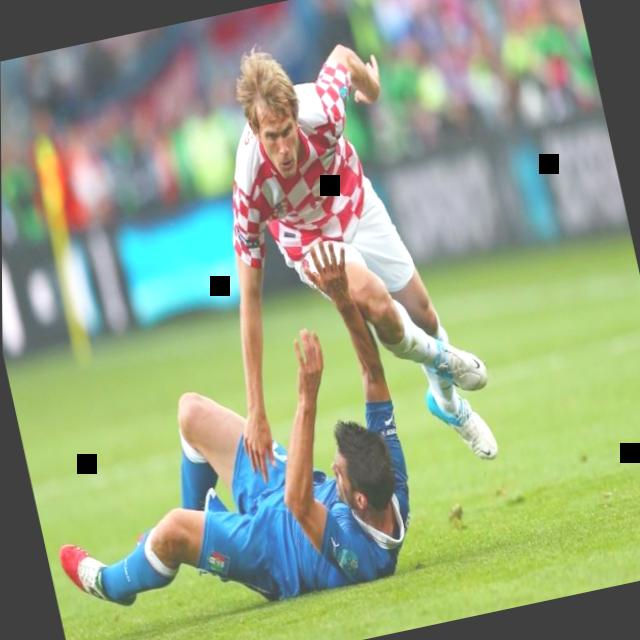Fall-Detected: (7, 296, 433, 640)
